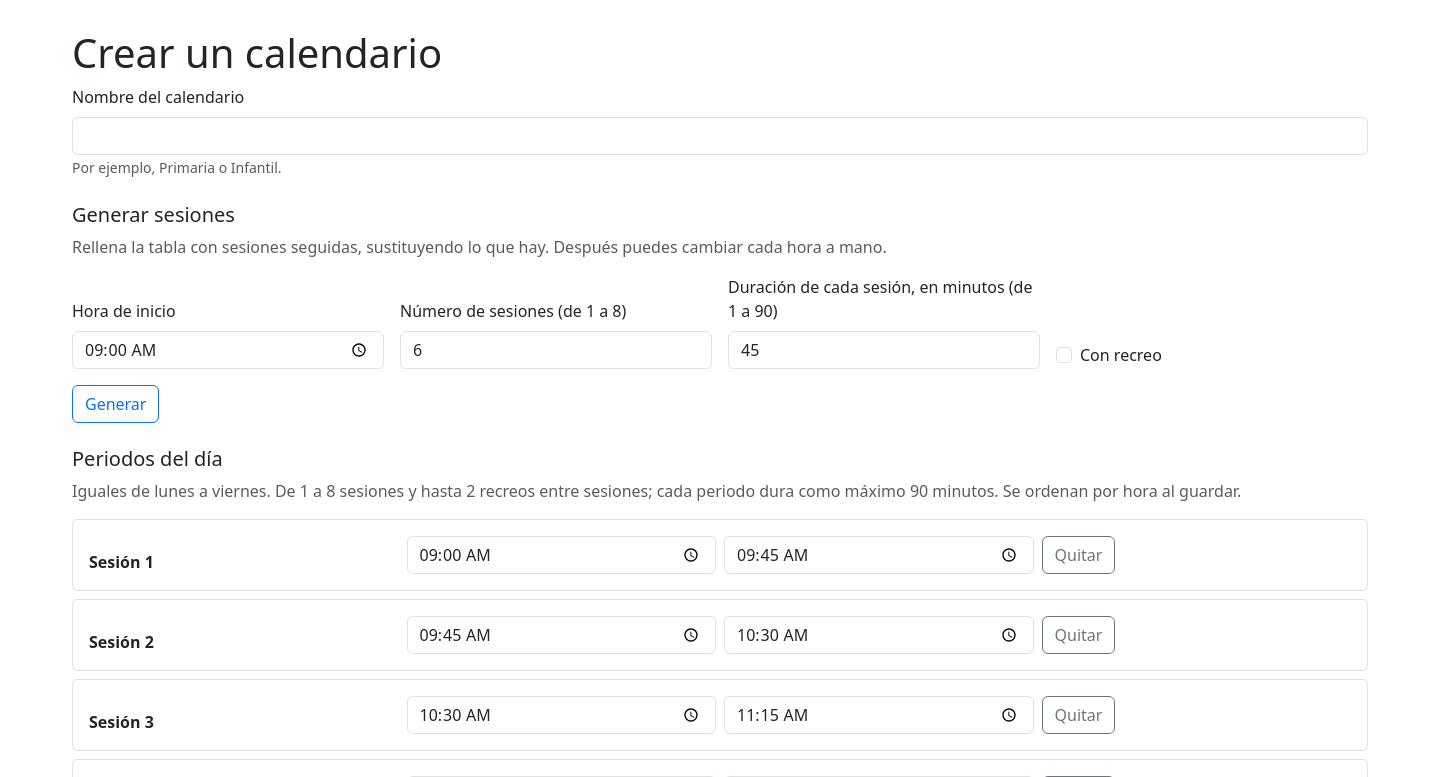
CreateCalendarPage › creating the calendar › marks the name, with the focus, on a 409
Type "Primaria" into the field labelled "Nombre del calendario".
click(720, 136); type("Primaria")  # box [72,117,1368,155]
(page scrolled)
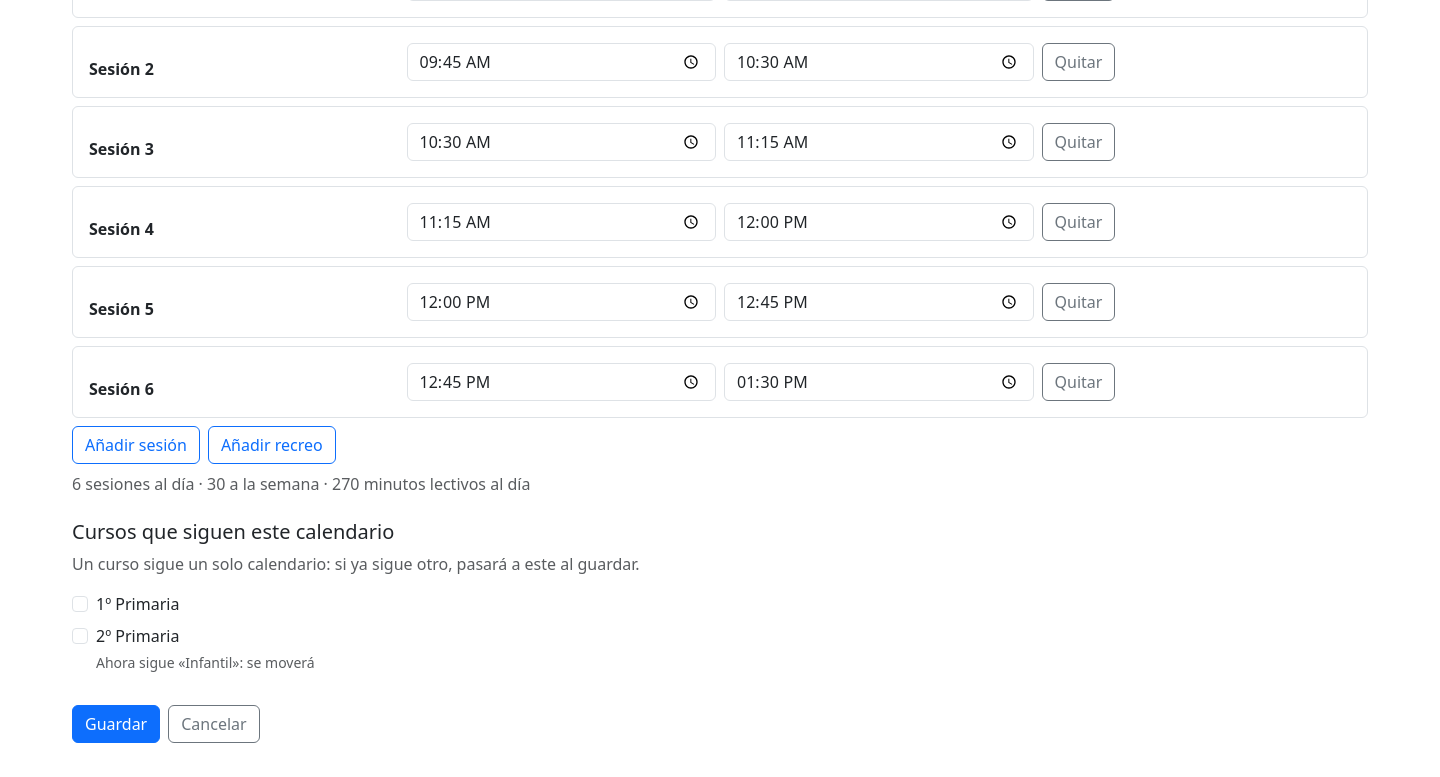
Click the button "Guardar".
click(116, 724)  # box [72,705,160,743]
(page scrolled)
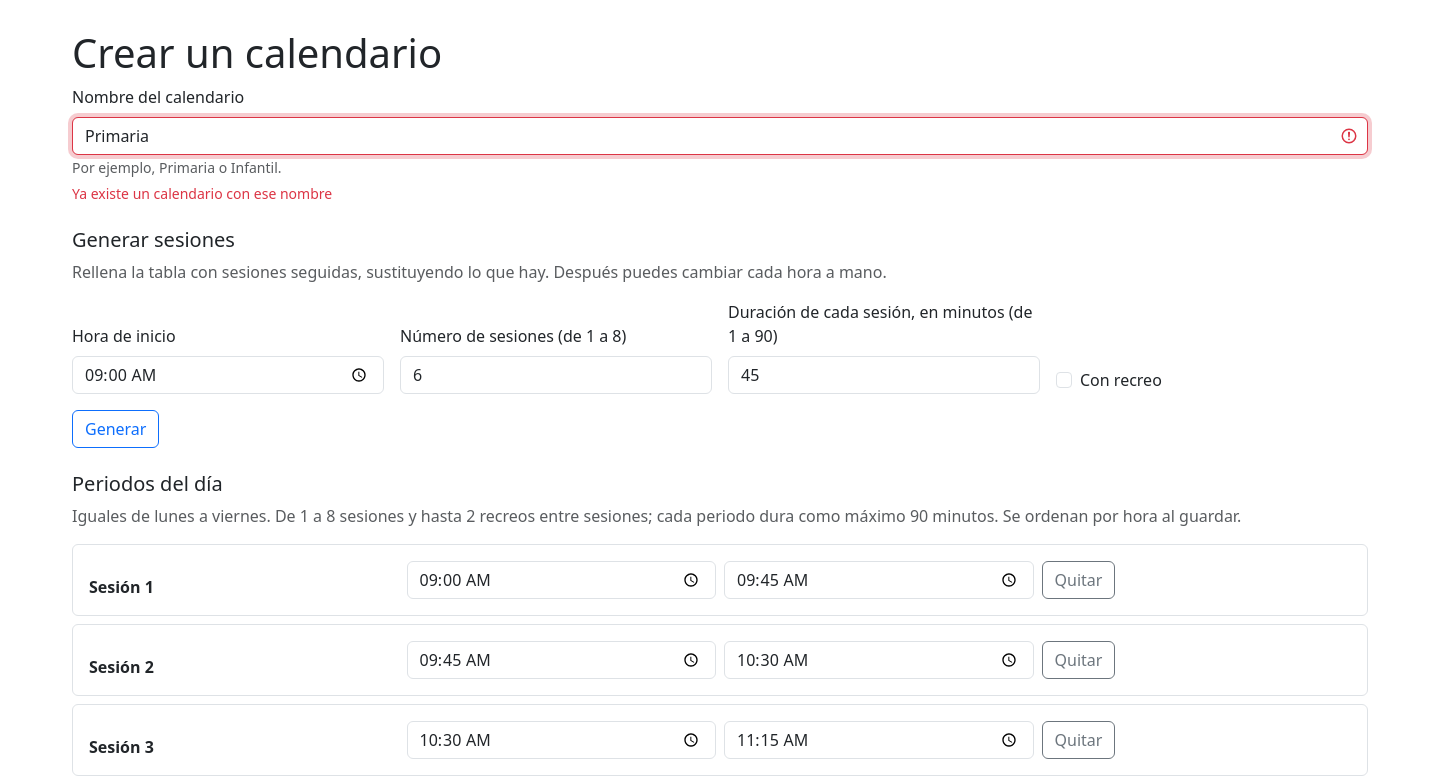
Expected: the text "Ya existe un calendario con ese nombre" is shown, [72,184,332,203]
